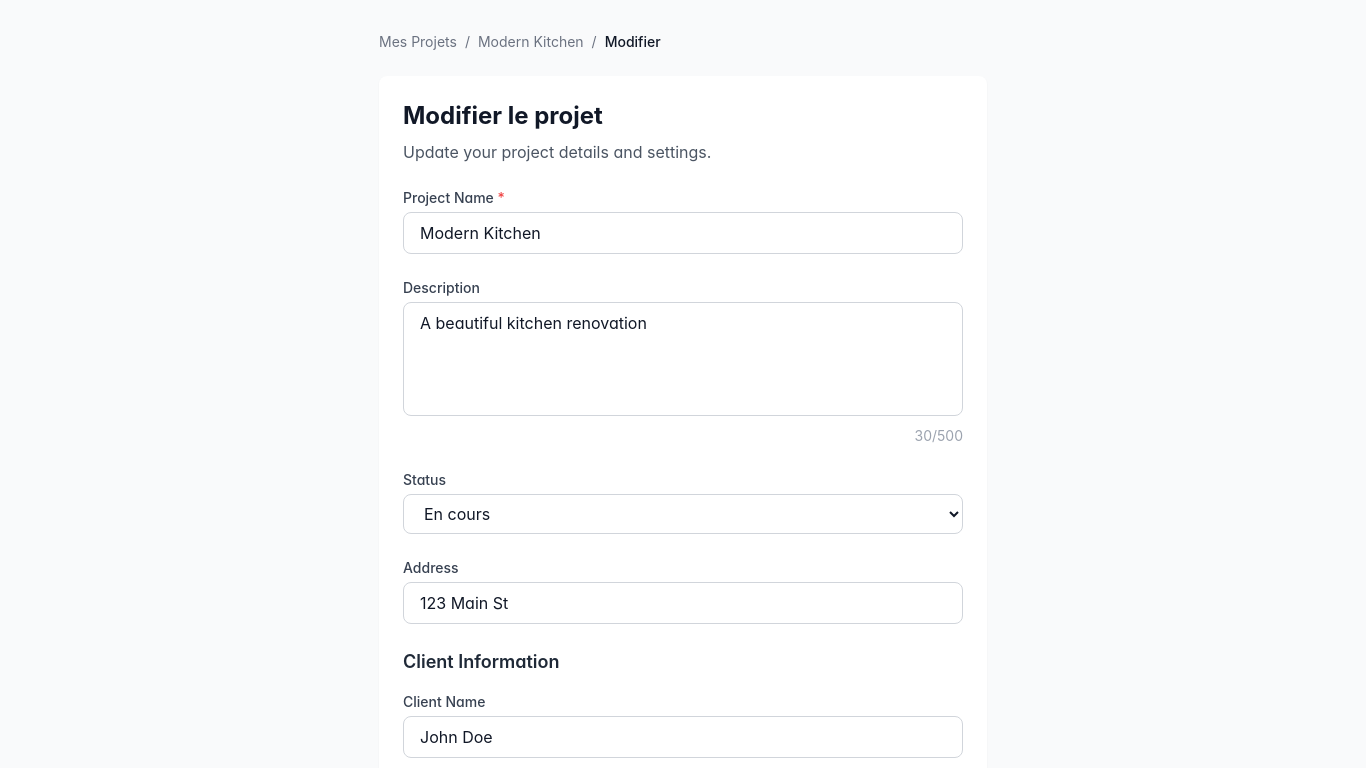
Test: ProjectEdit › Navigation and Unsaved Changes Modal › should close modal when stay button is clicked
The width and height of the screenshot is (1366, 768).
Type " change" into the field labelled "Project Name *".
click(683, 233); type(" change")  # box [403,212,963,254]
(page scrolled)
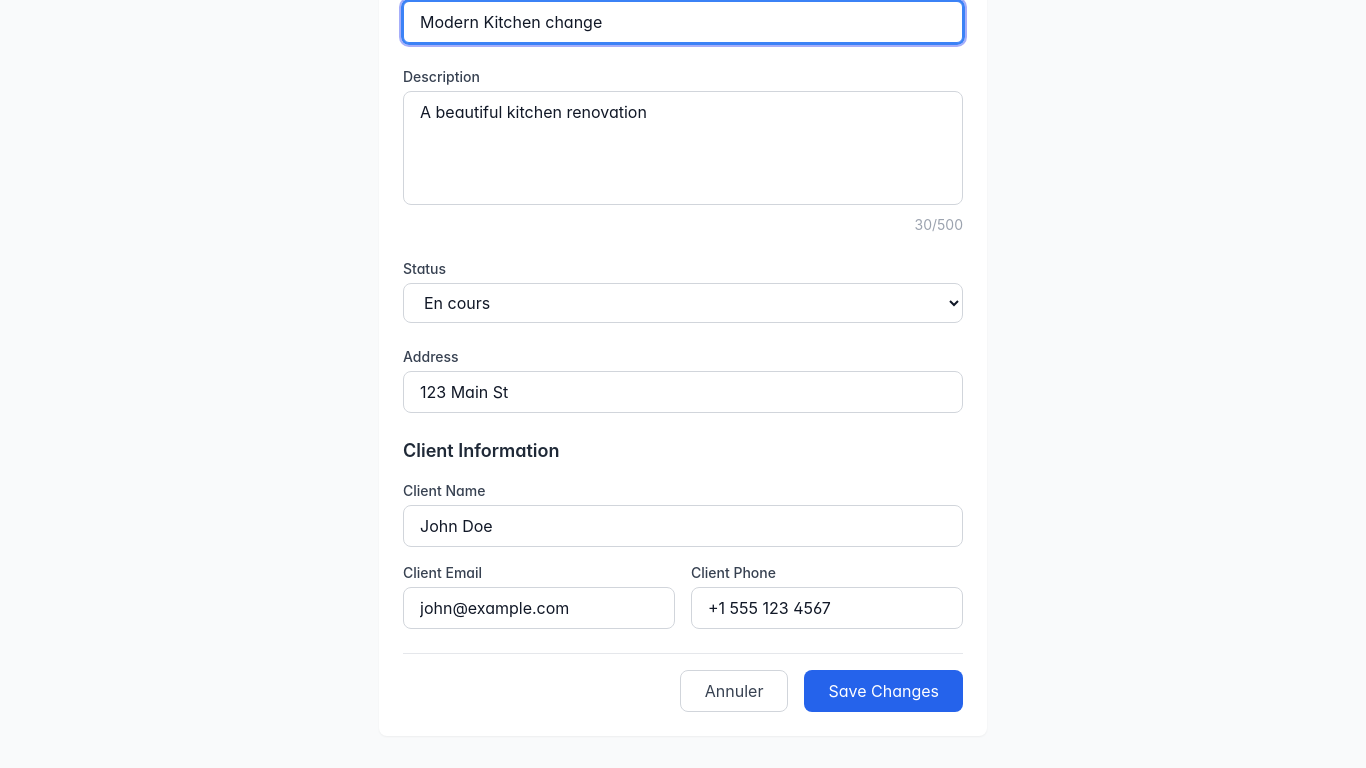
Click the button "Annuler".
click(734, 691)  # box [680,670,788,712]
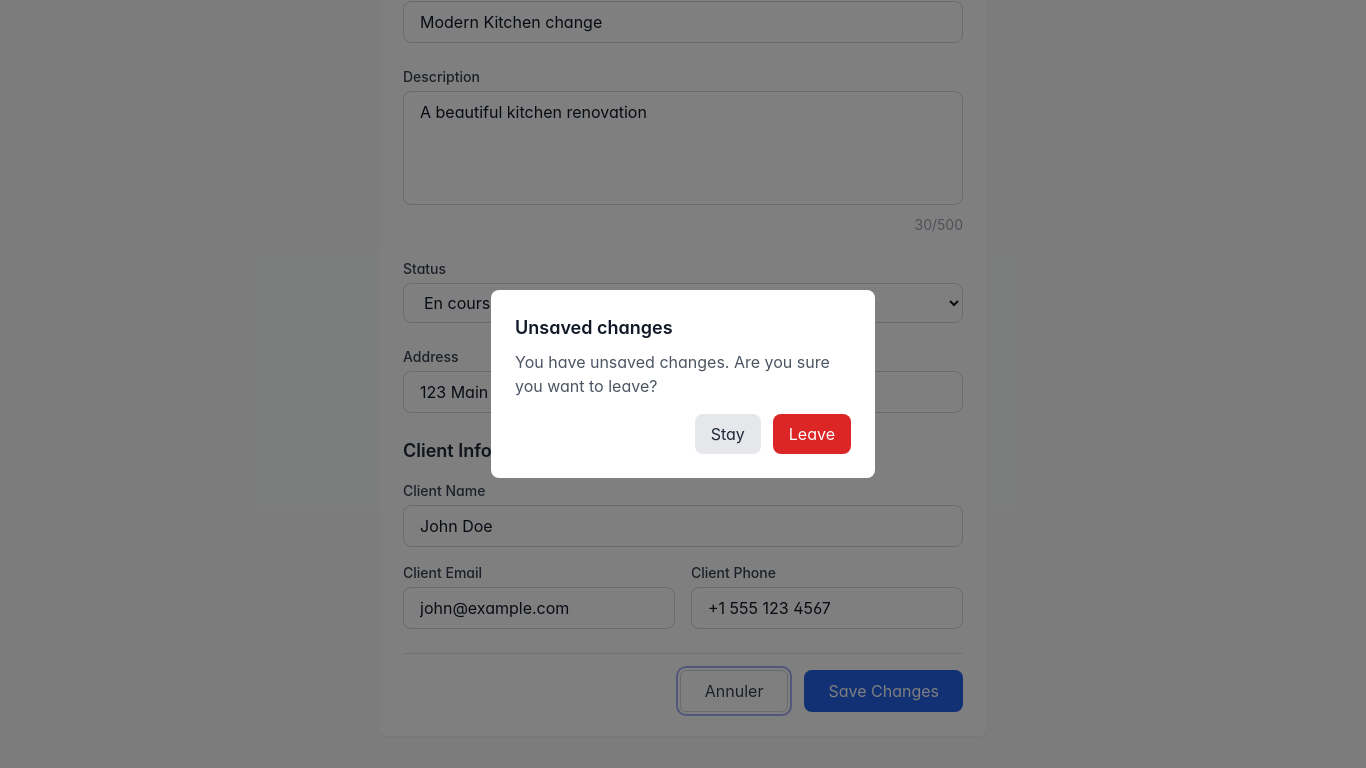
Result: the heading "Unsaved changes" is shown at [515,317,673,338]
Click the button "Stay".
click(728, 434)  # box [695,414,761,454]
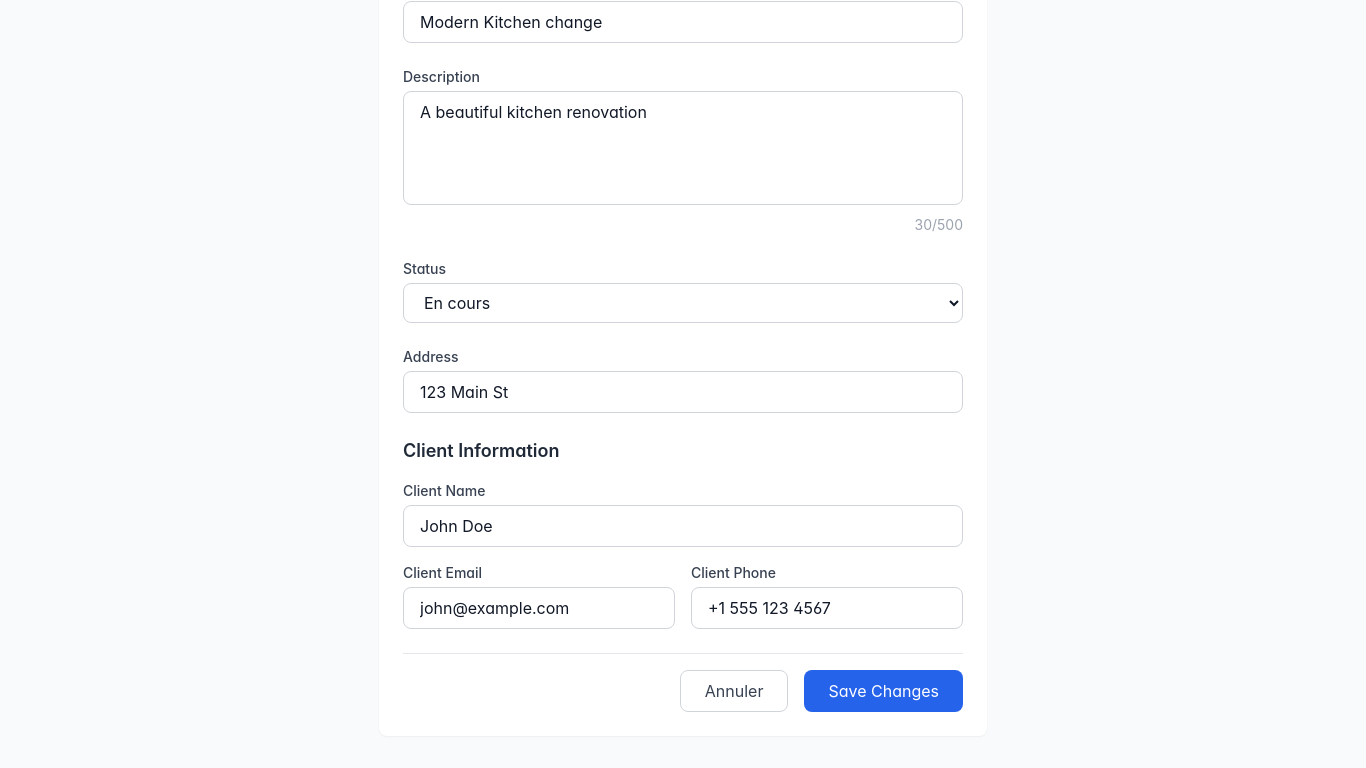
Result: the heading "Unsaved changes" is gone
